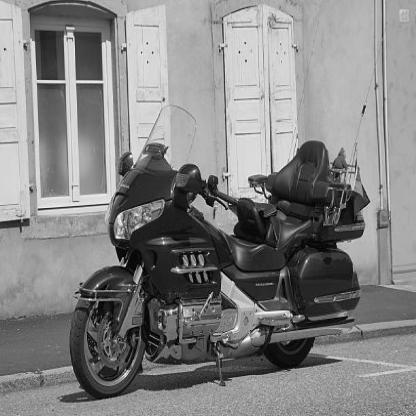Motorcycle: (61, 125, 364, 405)
